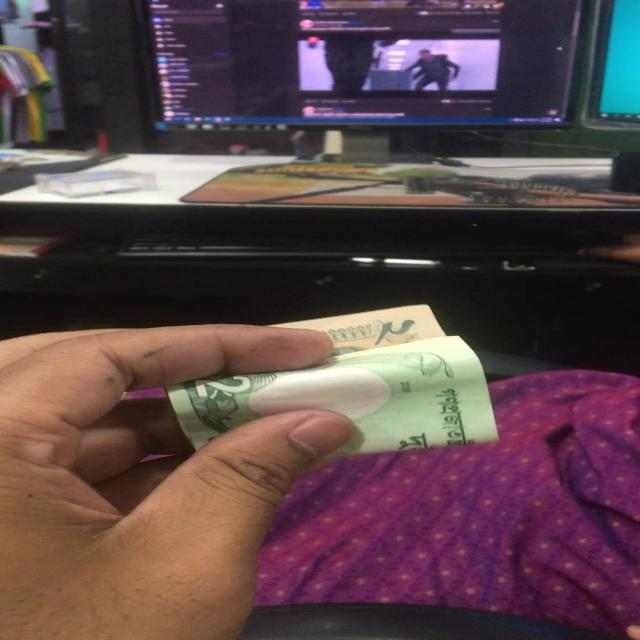Taka: (178, 312, 524, 456)
